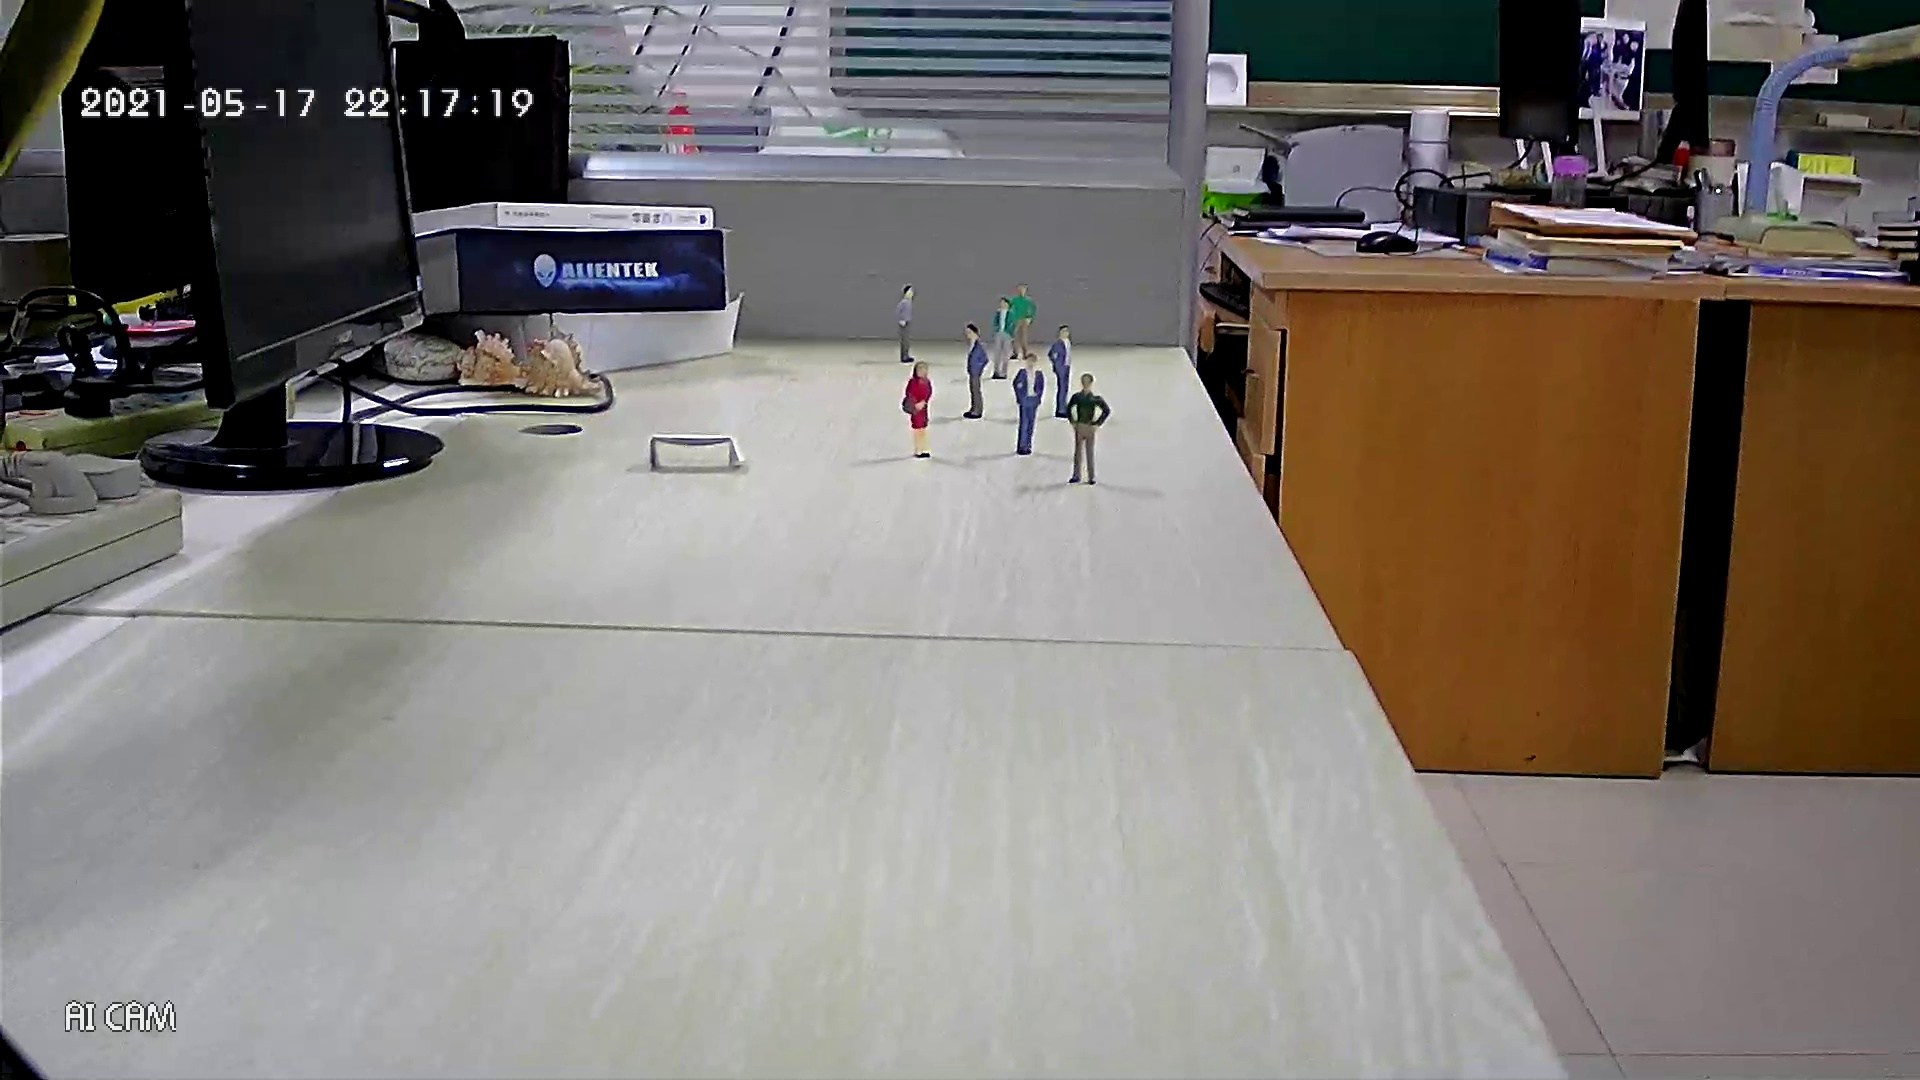person: (1065, 372, 1111, 485), (1012, 354, 1046, 456), (901, 360, 934, 459), (961, 323, 990, 419), (1048, 324, 1075, 419), (1007, 281, 1036, 363), (990, 295, 1016, 380), (894, 284, 917, 364)
